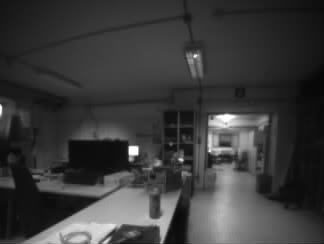Tin can: (148, 190, 161, 218)
